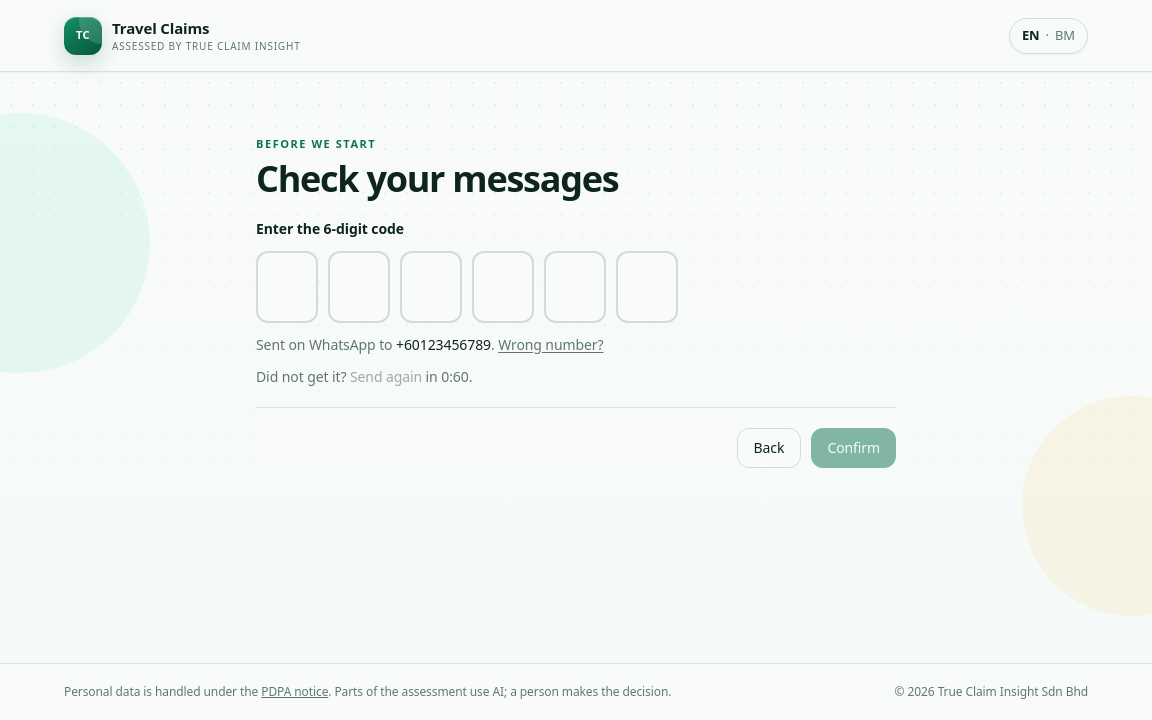
Test: Back on the code screen › returns to the number screen
Check: the heading "Check your messages" is shown, box top-left (256, 154), bottom-right (618, 202)
Step 1. Click the button "Back" → [769, 448], box top-left (737, 428), bottom-right (801, 468)
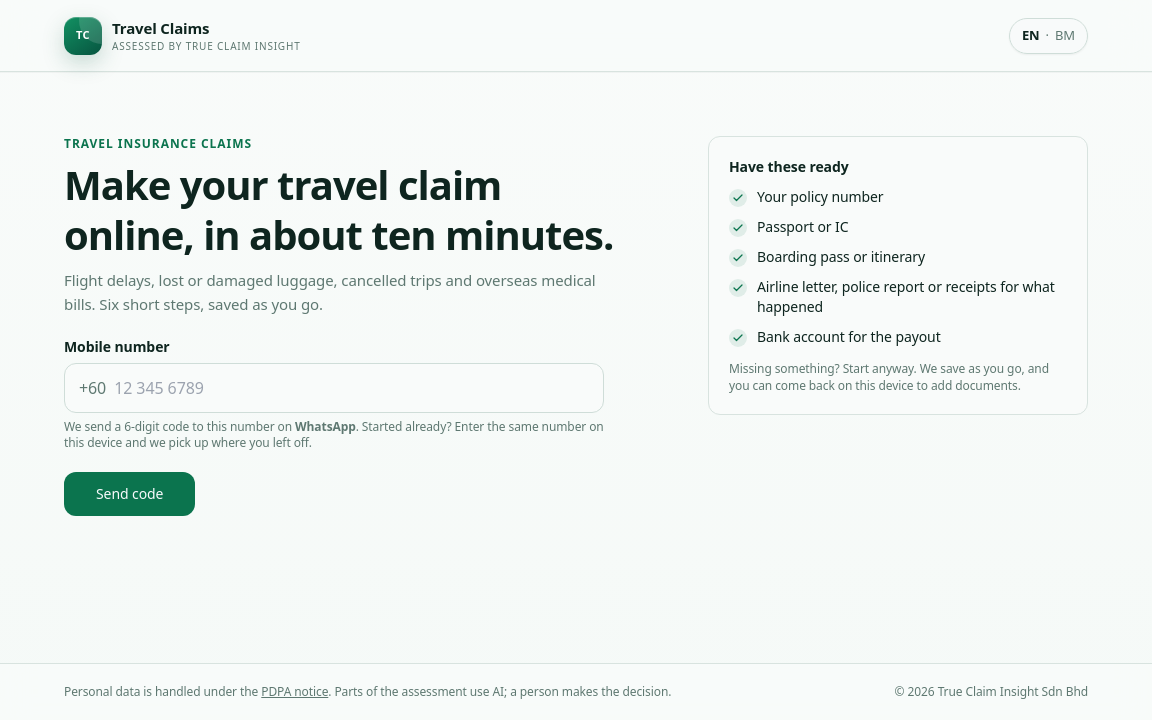
Check: the field labelled "Mobile number" is shown, box top-left (114, 364), bottom-right (589, 412)
Check: the heading "Check your messages" is gone
